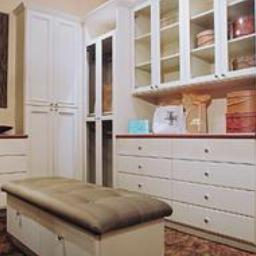Armario: (115, 128, 256, 187), (27, 21, 77, 169), (84, 10, 116, 183), (0, 136, 27, 213)
